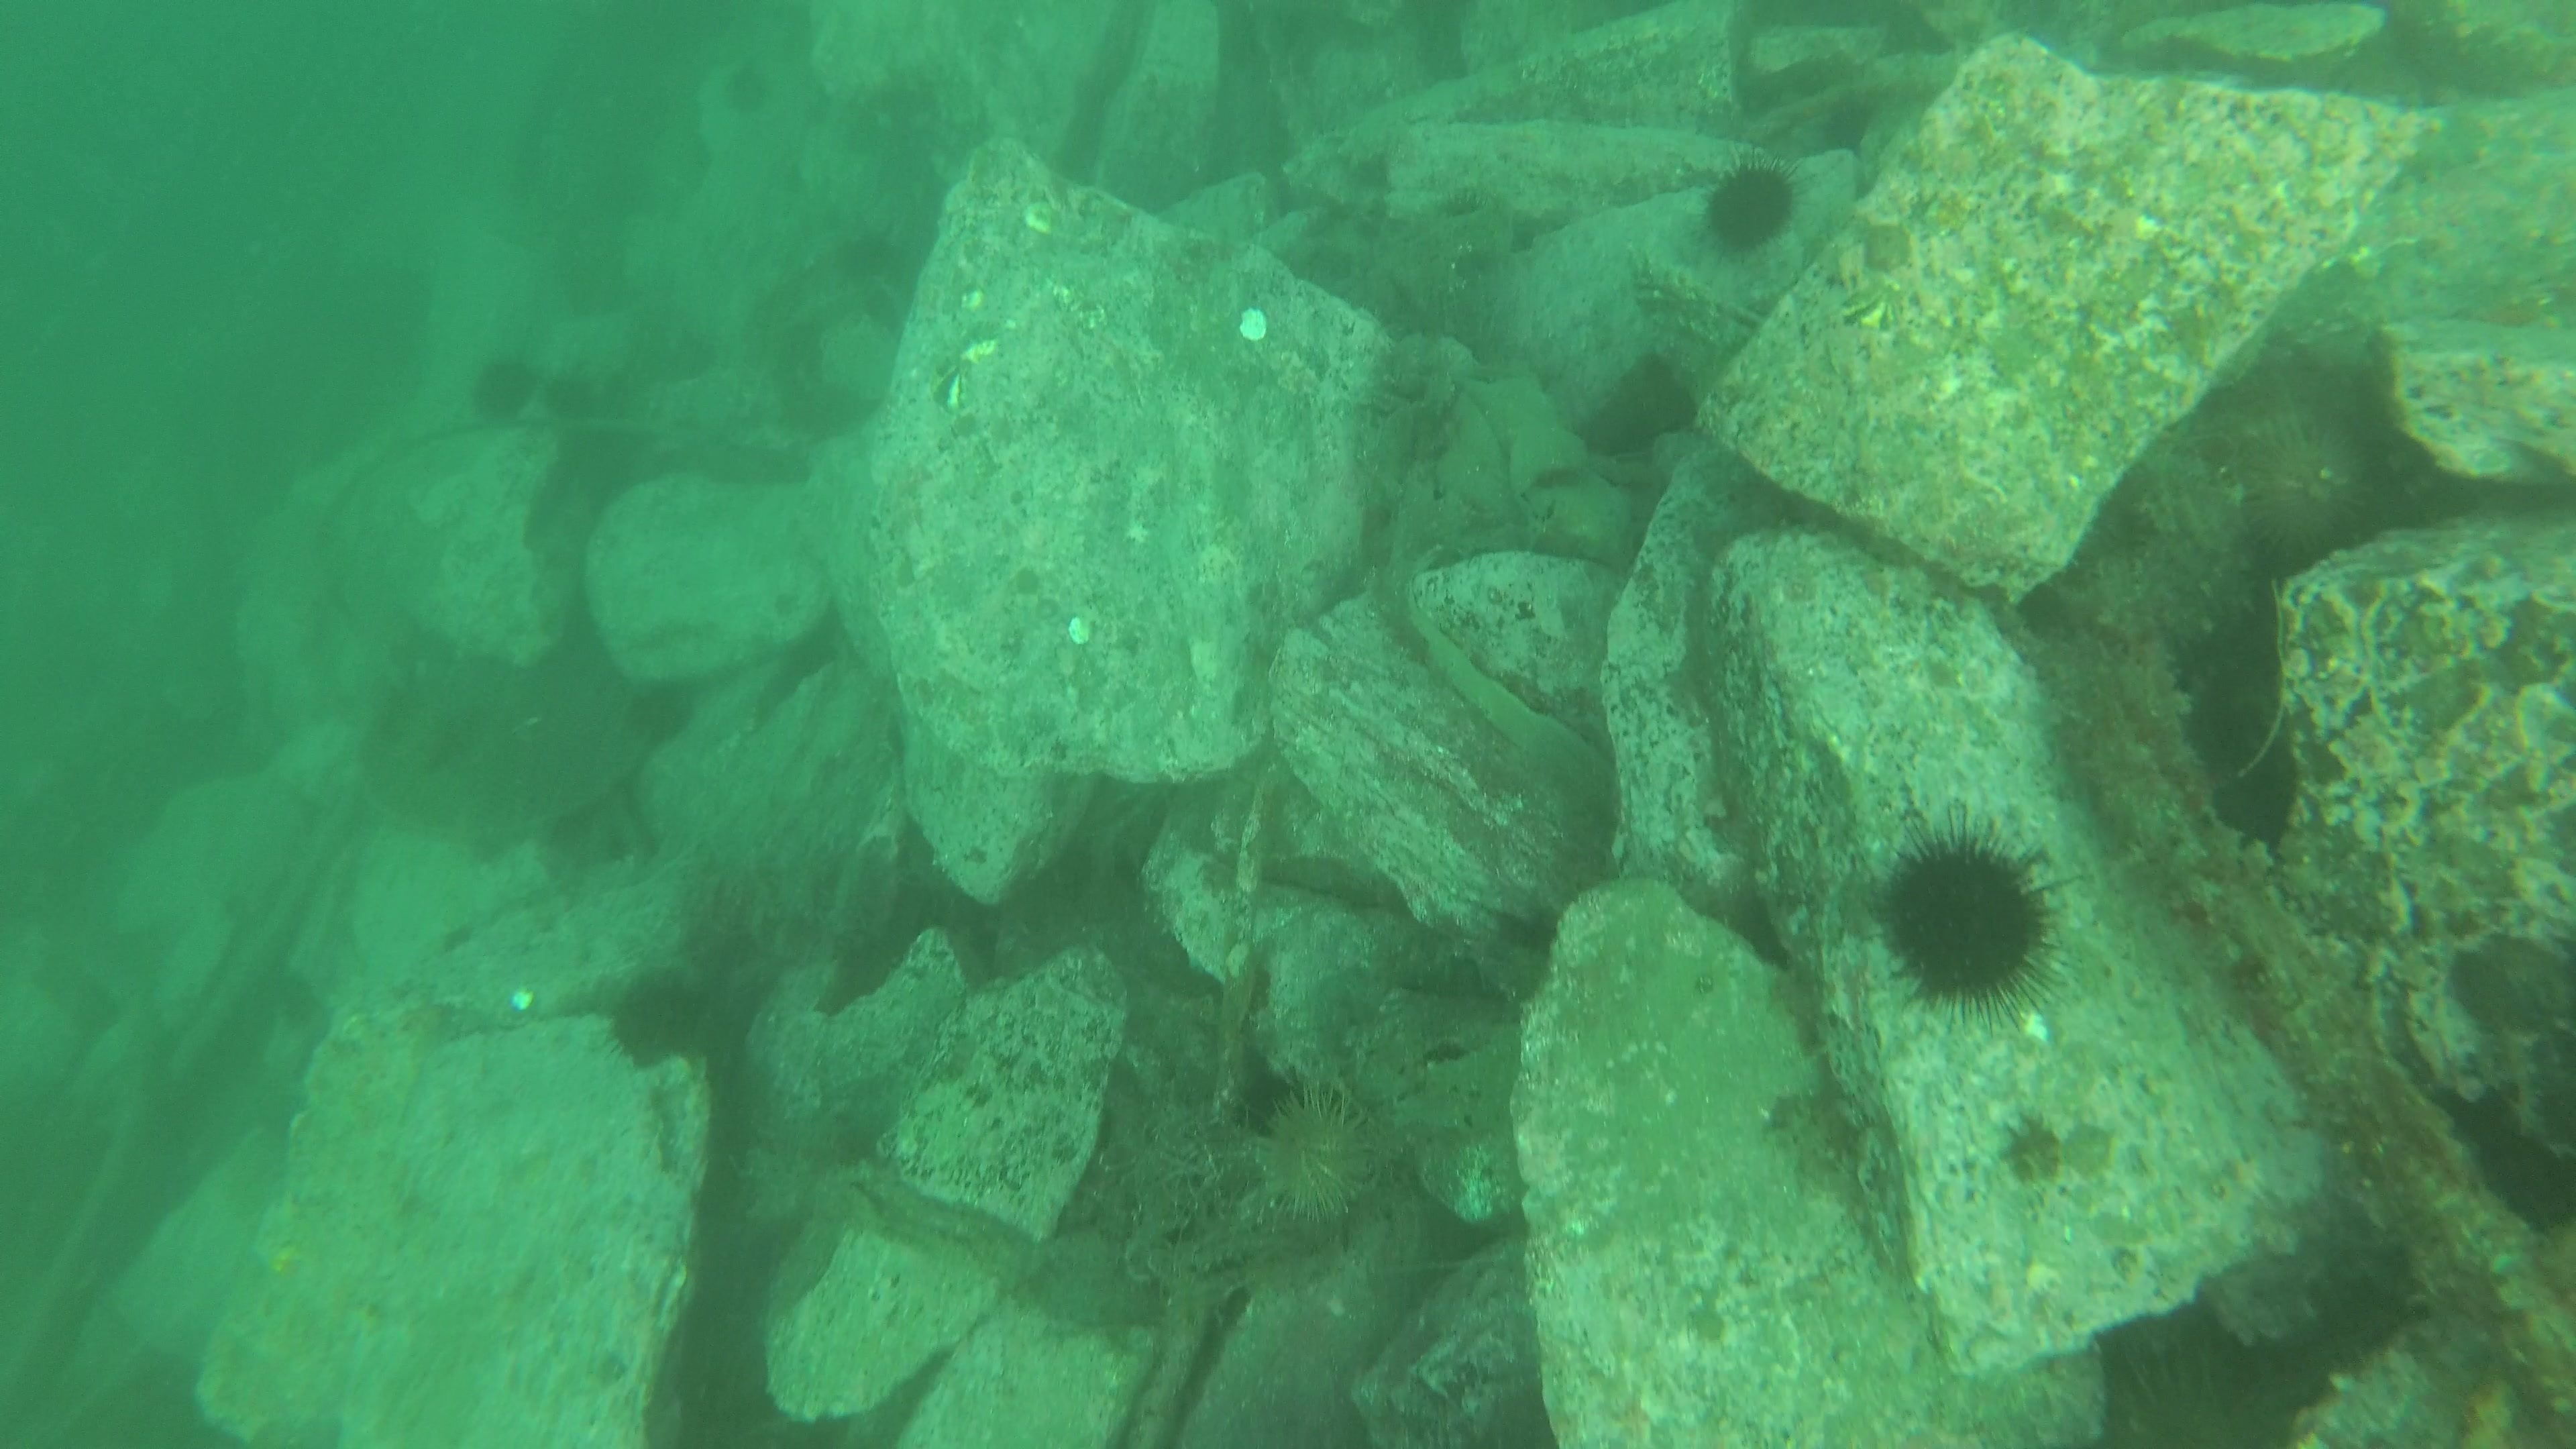echinus: (1870, 816, 2068, 1021), (2224, 410, 2381, 566), (2089, 1343, 2318, 1445), (1244, 1079, 1391, 1230), (600, 966, 718, 1074), (1693, 154, 1805, 260), (464, 347, 545, 430), (625, 686, 686, 745), (724, 64, 773, 113), (547, 380, 596, 426)
